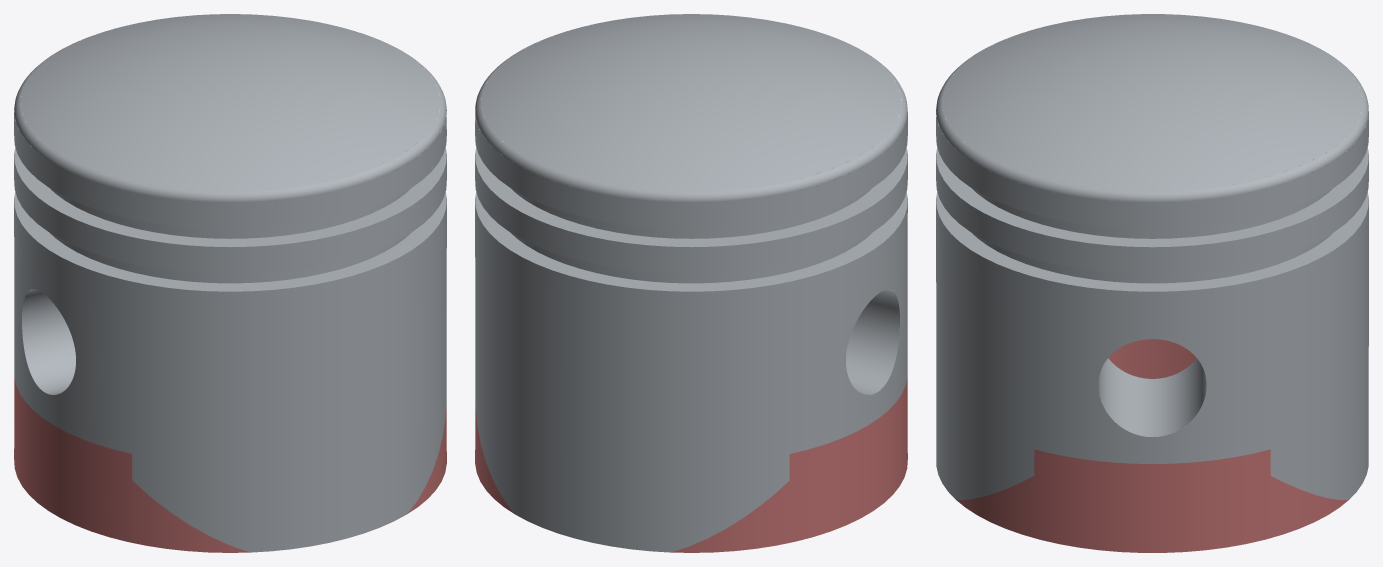
The model's file is step_07.glb.
3 renders of one model, left to right at view 1: azimuth 30°, elevation 25°; view 2: azimuth 150°, elevation 25°; view 3: azimuth 270°, elevation 25°, orthographic.
Parts seen in each view (by area): view 1: part__piston head, removed__piston head; view 2: part__piston head, removed__piston head; view 3: part__piston head, removed__piston head.
Part boxes in pixels (x1,y1,x2,y2): part__piston head: (14,14,446,552); removed__piston head: (14,378,446,552); part__piston head: (475,14,907,552); removed__piston head: (475,377,907,552); part__piston head: (936,14,1368,499); removed__piston head: (956,339,1348,552).
Size of the model in its own units: 44 by 44 by 44.
